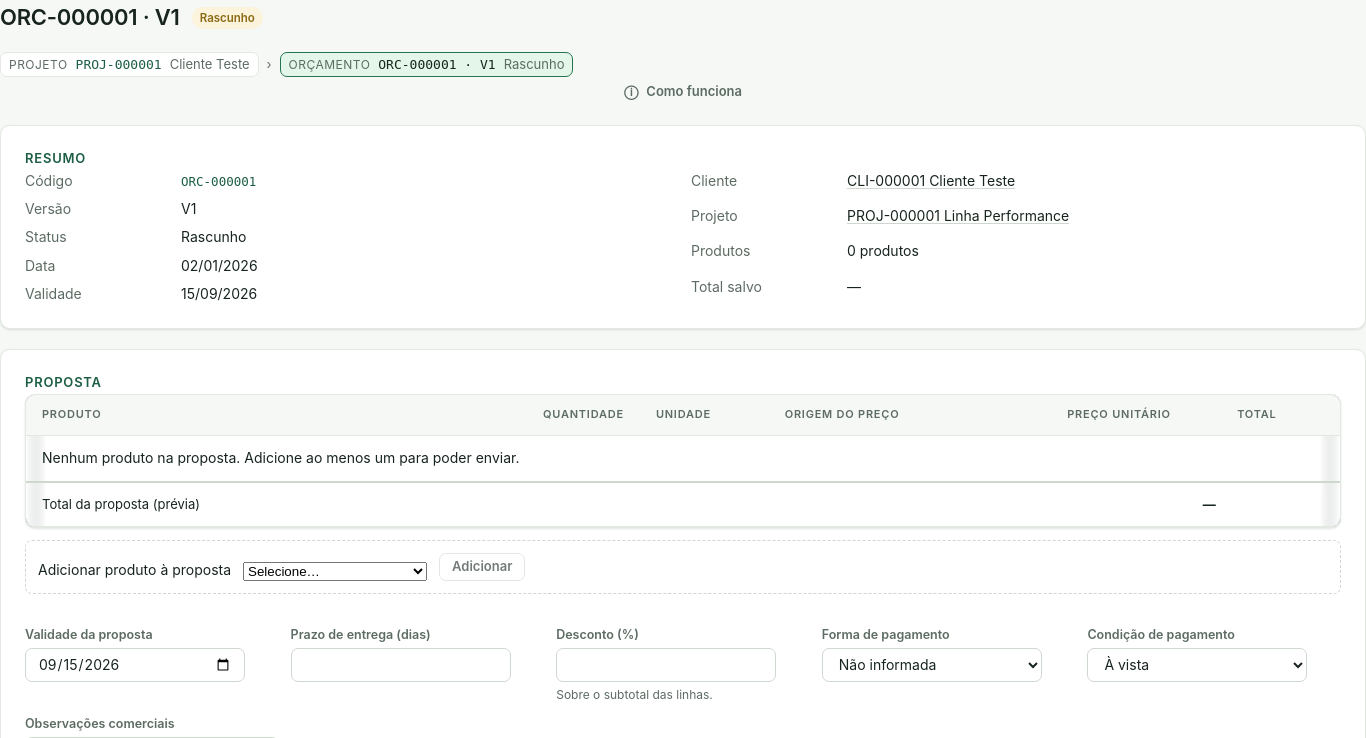
Test: QUOTE-DRAFT-STATE-01 — a página do Orçamento, com a mutação de linha de verdade › linha que falha ao gravar não mexe no formulário de condições
The image size is (1366, 738).
Type "2026-09-20" into the date field labelled "Validade da proposta". click: (135, 665)
box: left=25, top=648, right=245, bottom=682
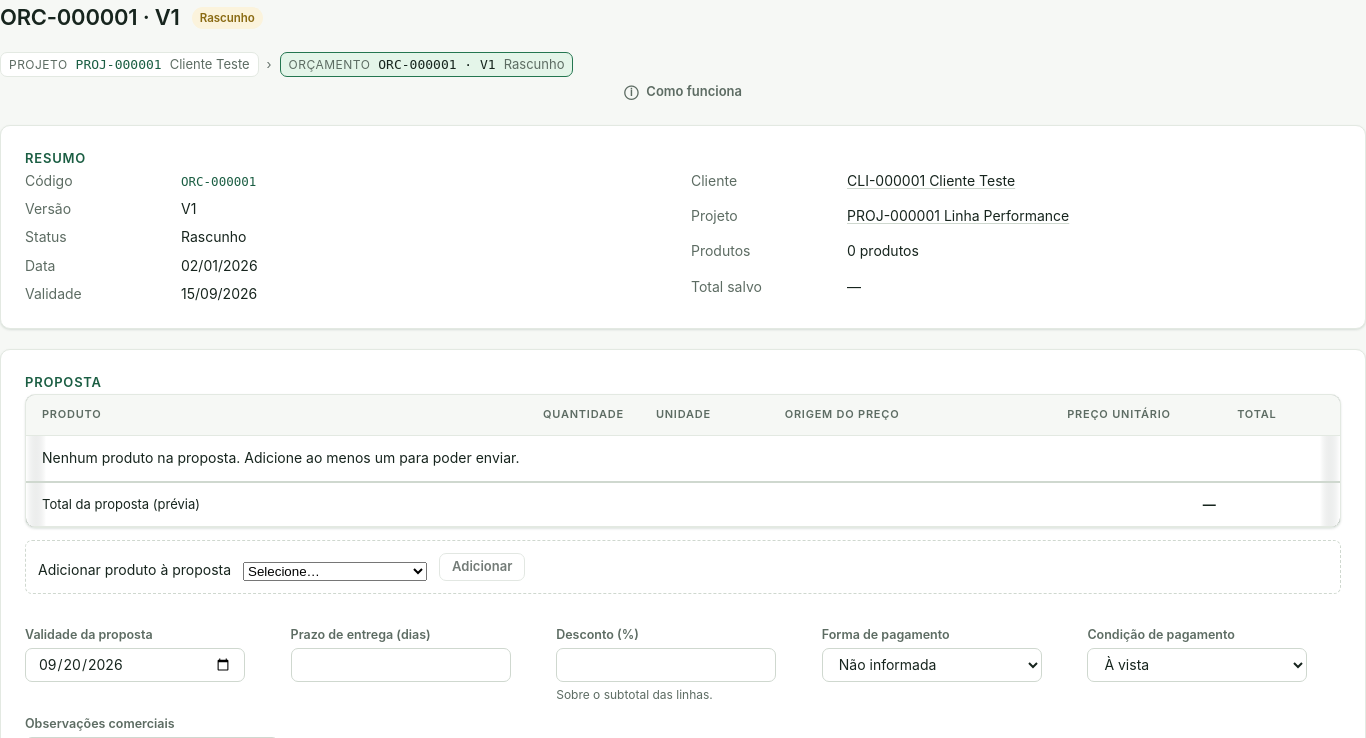
Type "7,5" into the field labelled "Desconto (%)". click: (666, 665)
box: left=556, top=648, right=776, bottom=682
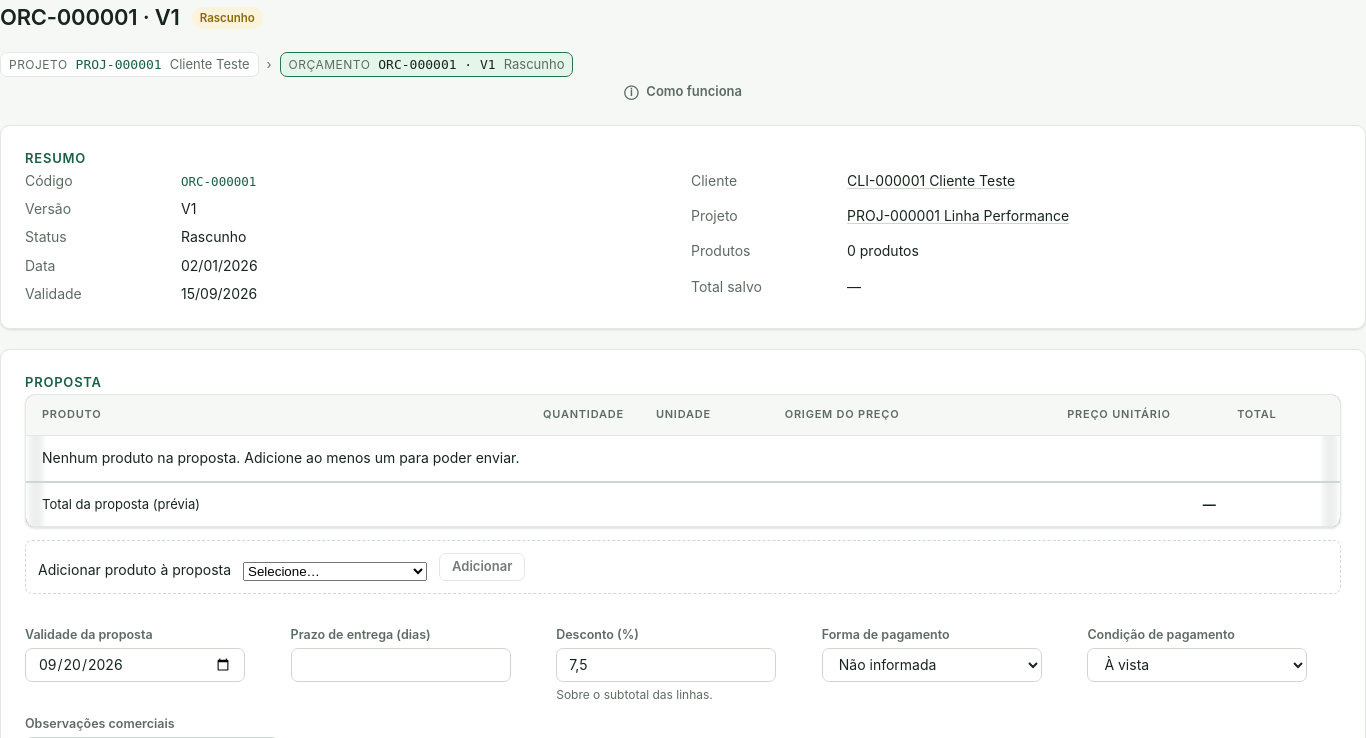
Select "PROD-000001 · Pré-Treino" in the dropdown labelled "Adicionar produto à proposta". click: (335, 571)
box: left=243, top=562, right=427, bottom=580
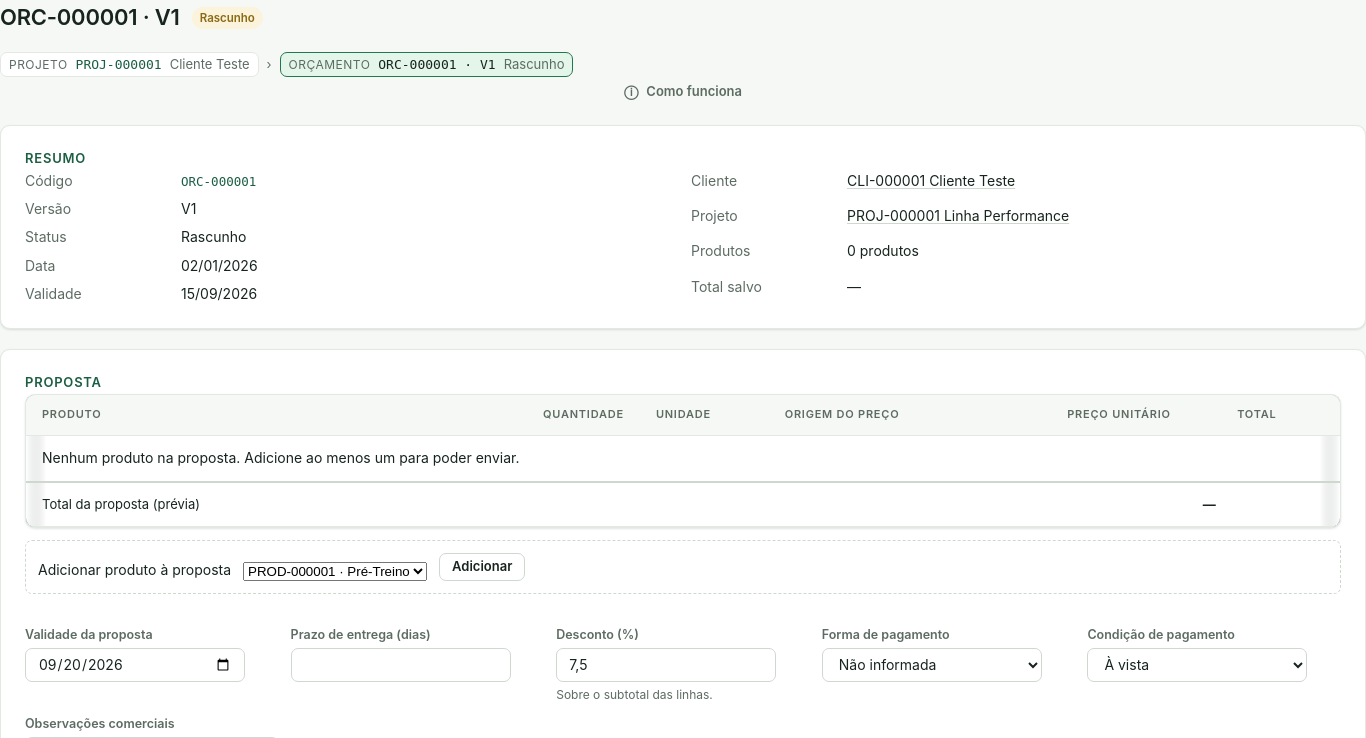
Click the button "Adicionar". click: (482, 566)
box: left=439, top=552, right=525, bottom=580
(page scrolled)
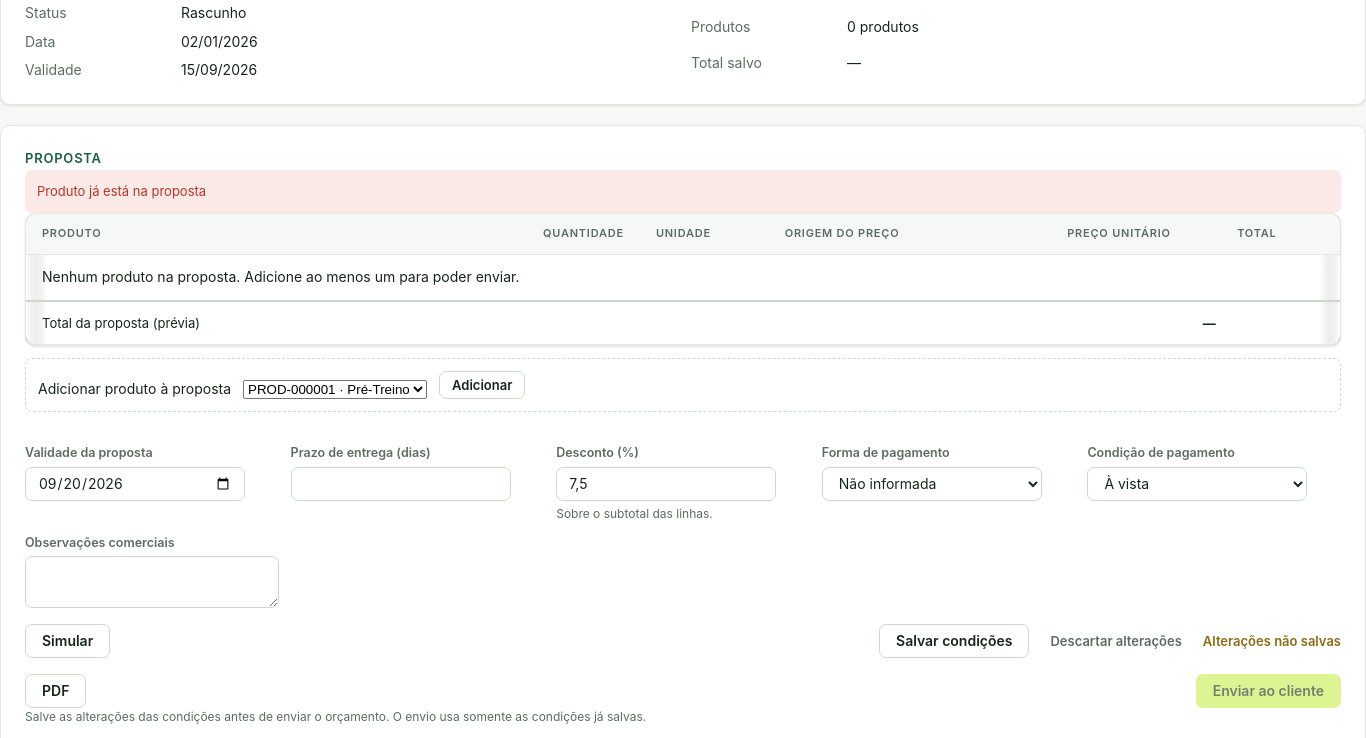
Expected: the message "Alterações não salvas" is shown, left=1203, top=632, right=1341, bottom=650
Expected: the button "Salvar condições" is enabled, left=879, top=624, right=1030, bottom=658
Expected: the text "Produto já está na proposta" is shown, left=25, top=170, right=1341, bottom=213
